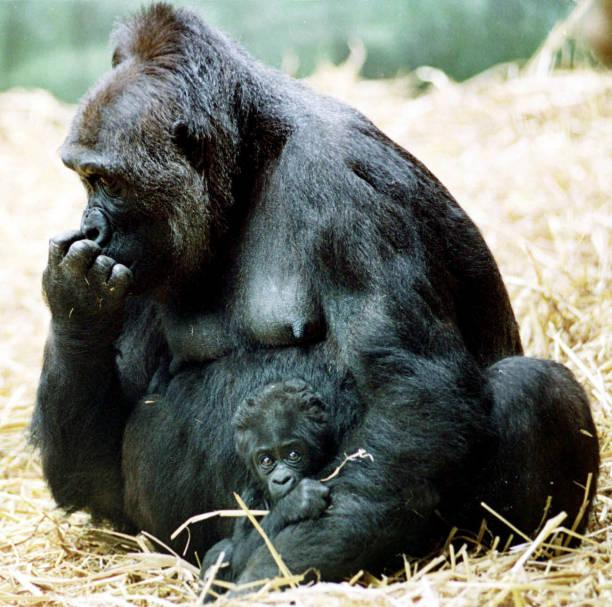gorille_Autres: (10, 0, 601, 580)
